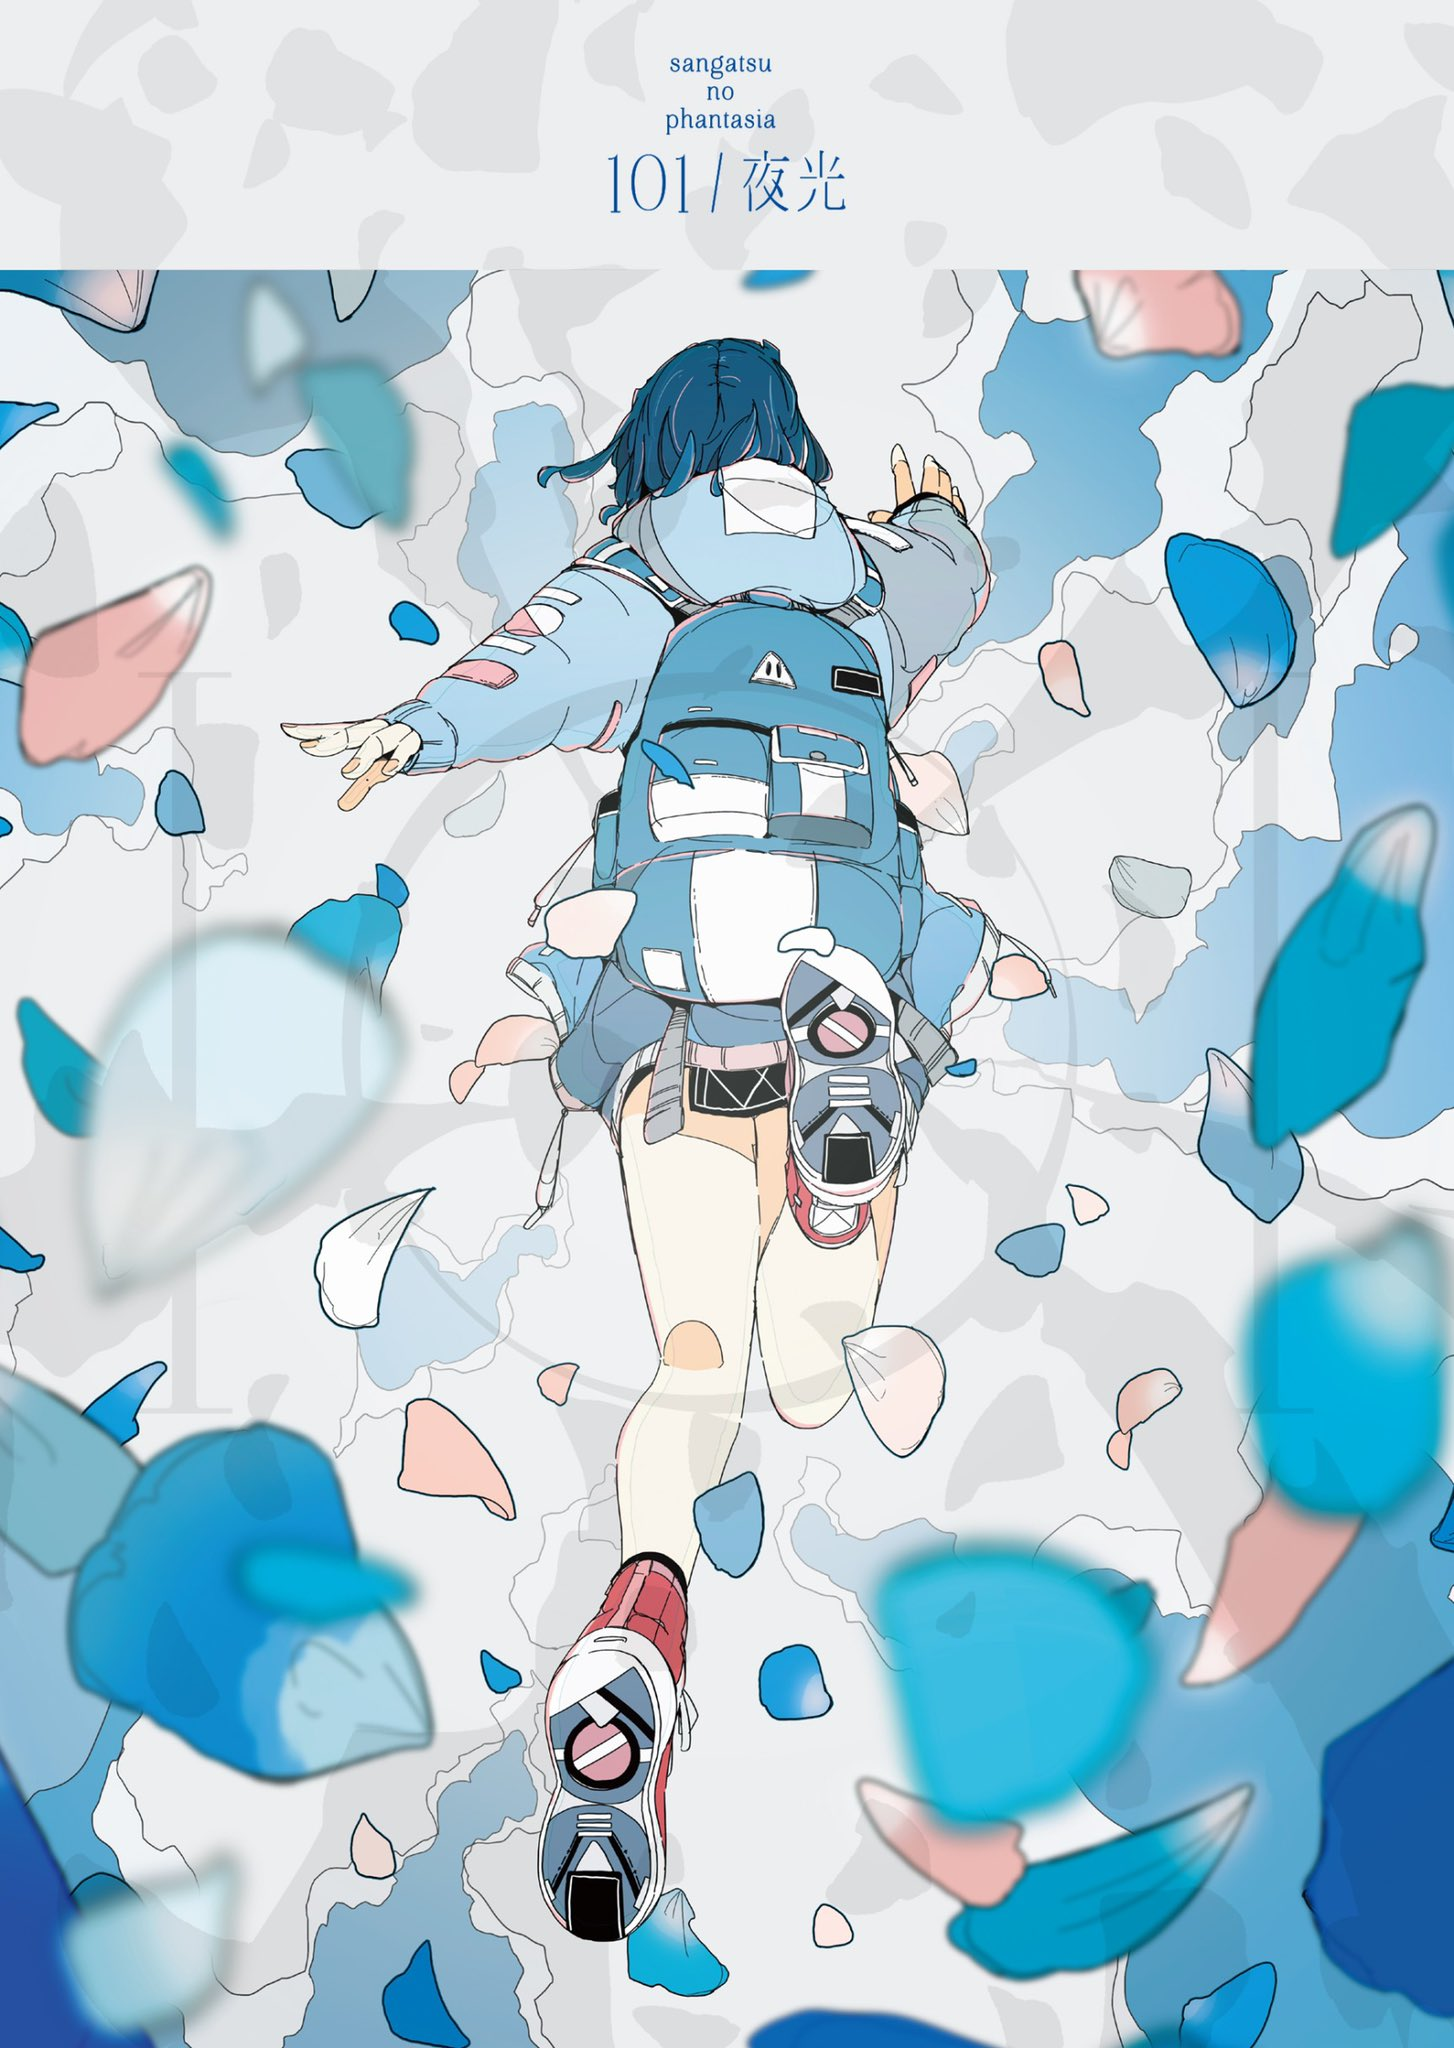p: (335, 335, 1009, 1921)
